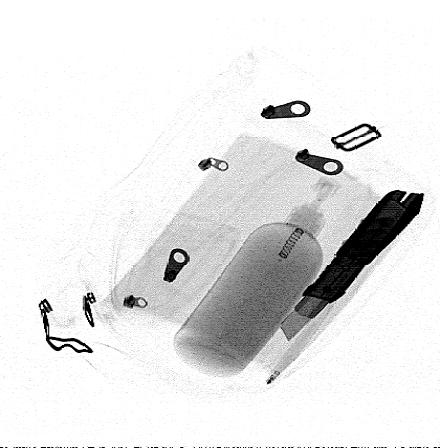Knife: (279, 189, 425, 343)
